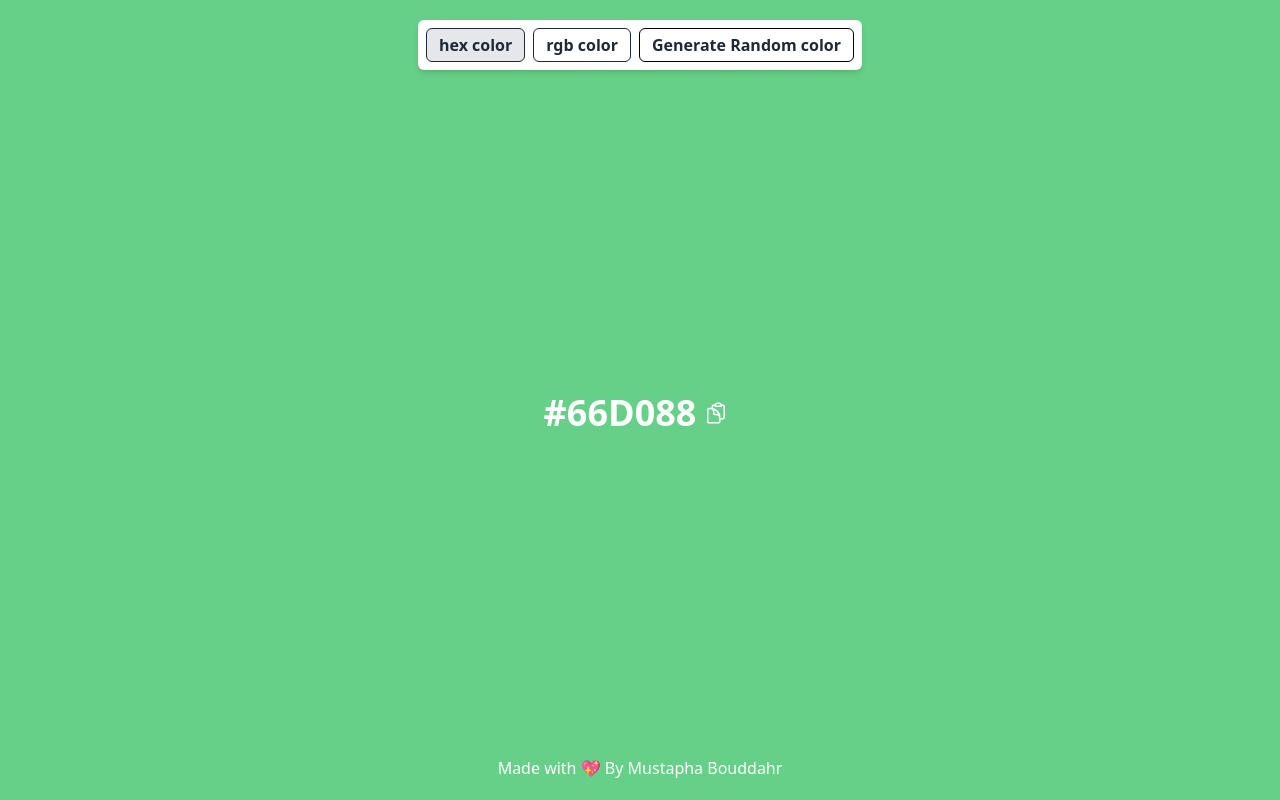
Test case: RandomColour Component › should switch to RGB mode when button is clicked
Click the button "rgb color" at (582, 45), box [533, 28, 631, 62]
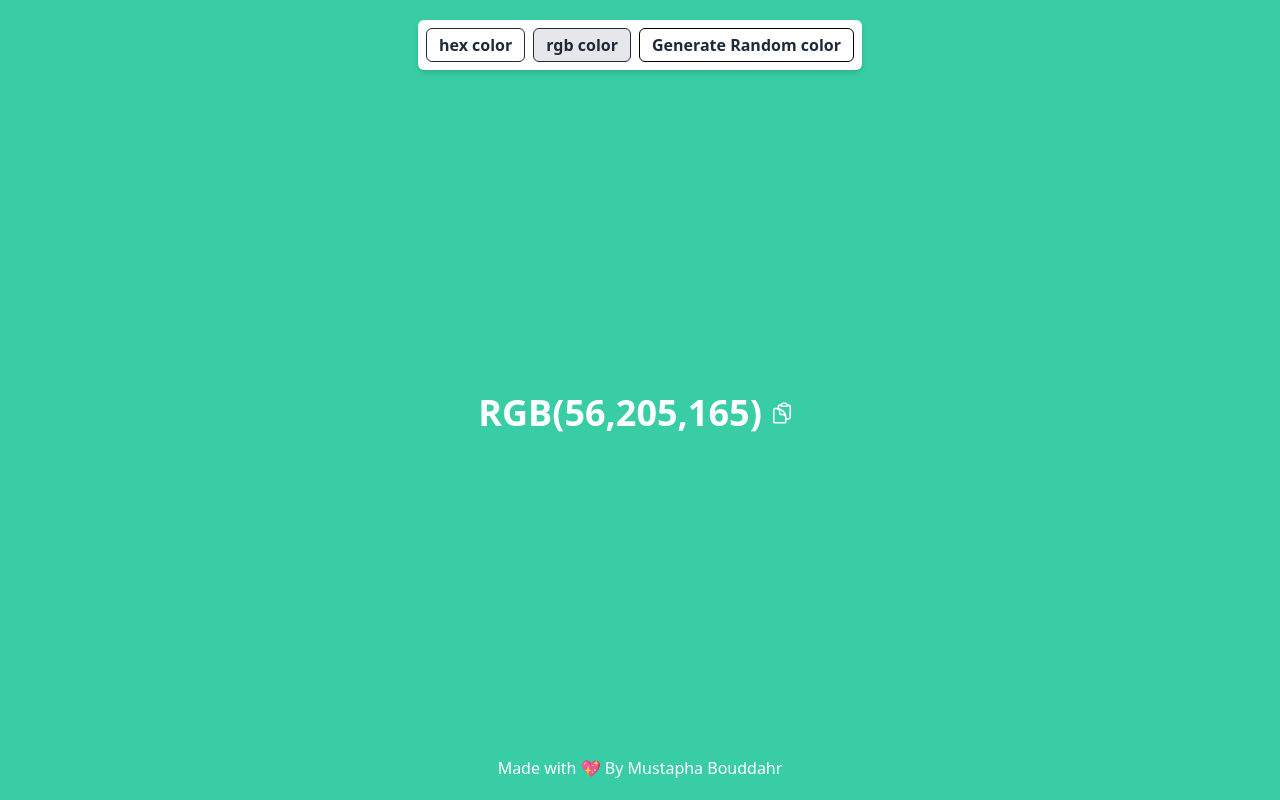
Now the heading "rgb(56,205,165)" is shown, box [478, 393, 762, 433]
